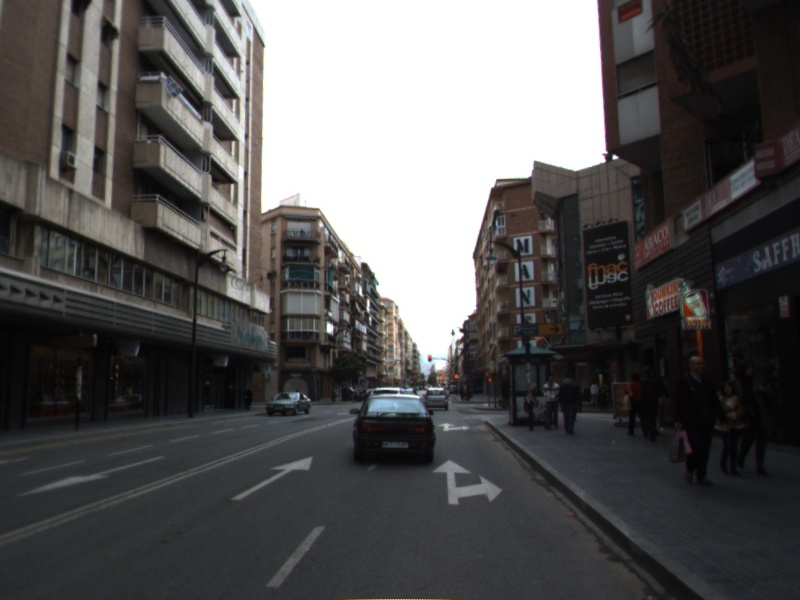STRAIGHT: (229, 454, 315, 502)
STRAIGHT_RIGHT: (430, 457, 505, 506), (435, 421, 472, 433)
